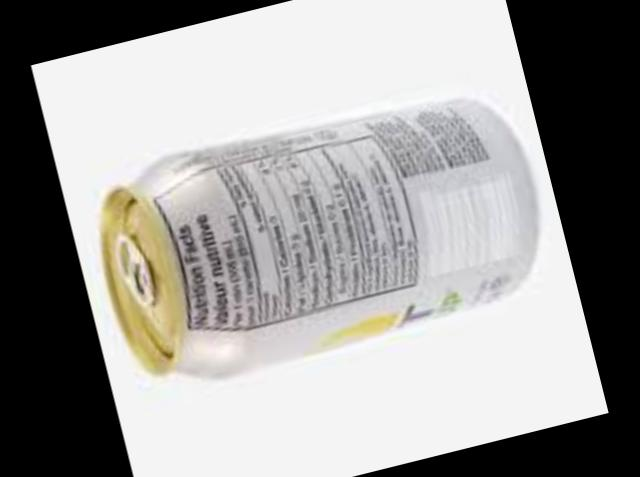metal: (98, 104, 531, 380)
